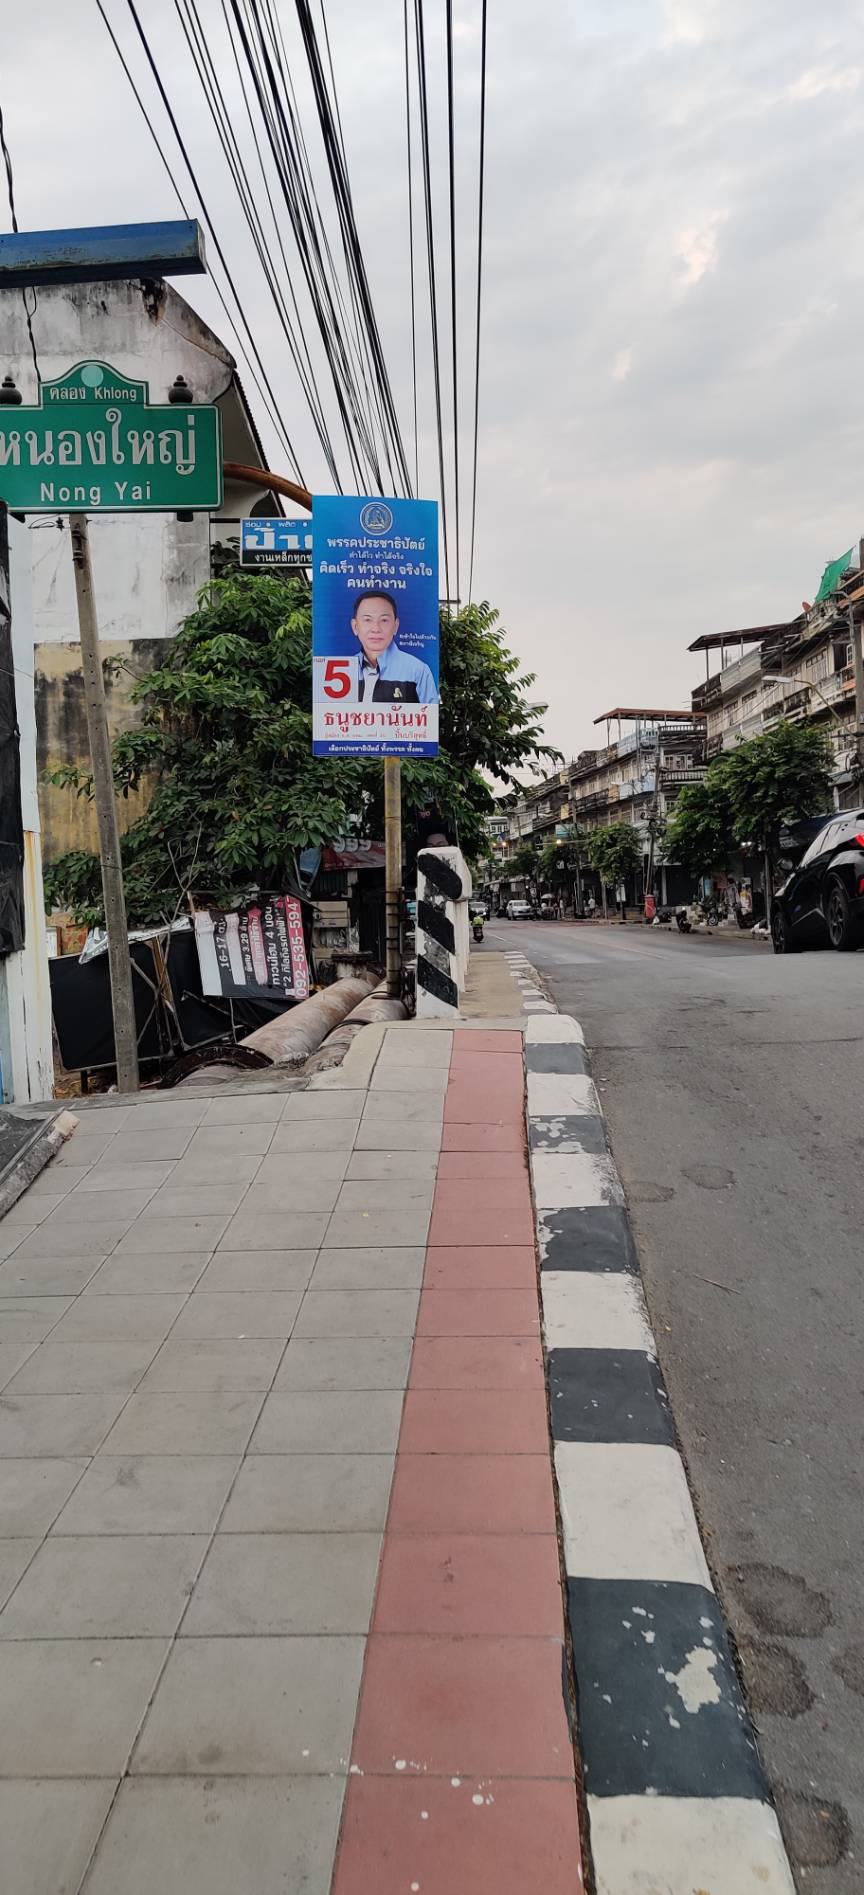Banner: (313, 492, 443, 747)
